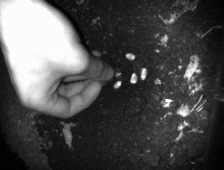corn: (138, 65, 148, 82), (128, 71, 140, 85), (123, 51, 137, 62), (112, 79, 123, 90), (113, 70, 124, 77)
